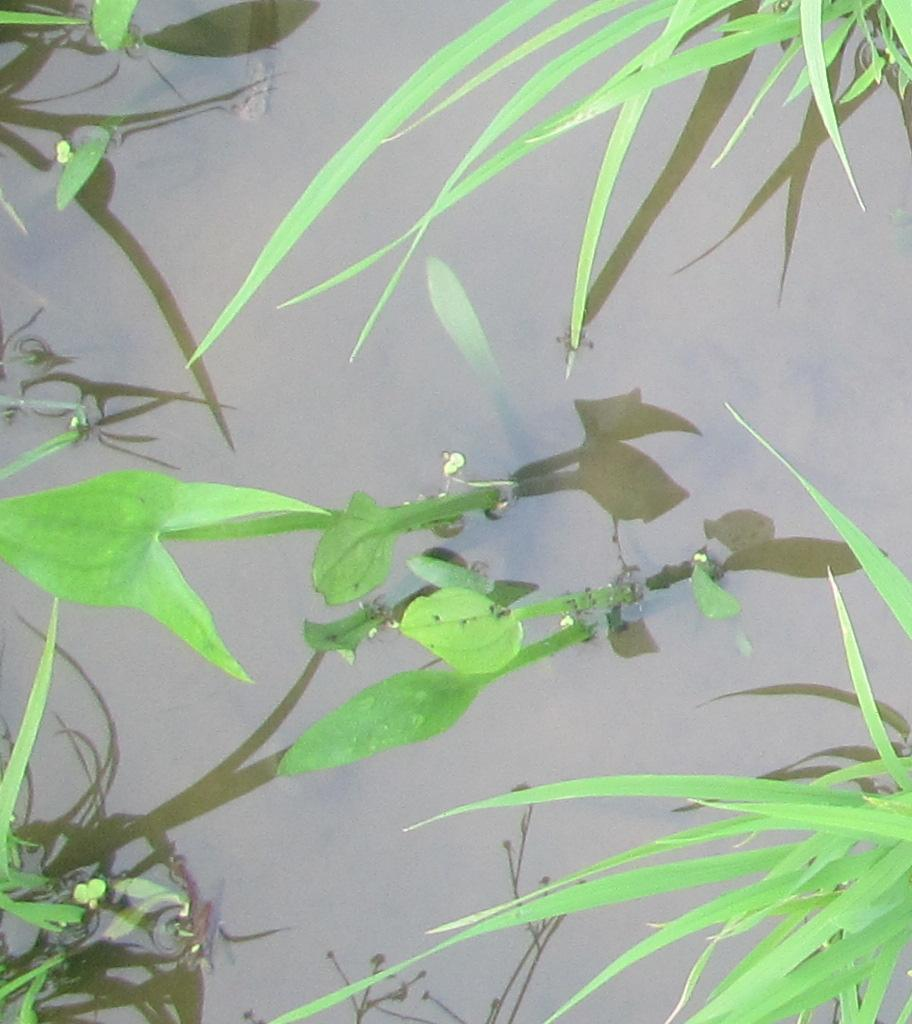Weed: (317, 488, 596, 752), (11, 474, 307, 663)
